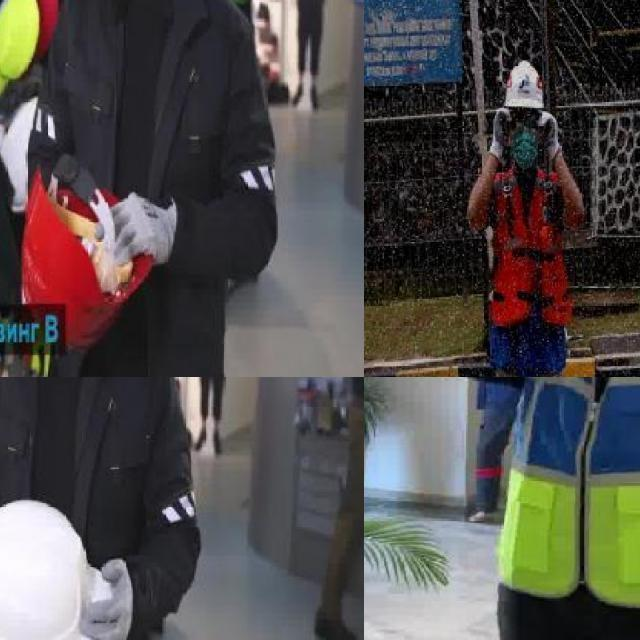apron: (94, 189, 170, 271), (79, 551, 133, 640), (488, 105, 511, 163), (538, 114, 562, 162)
